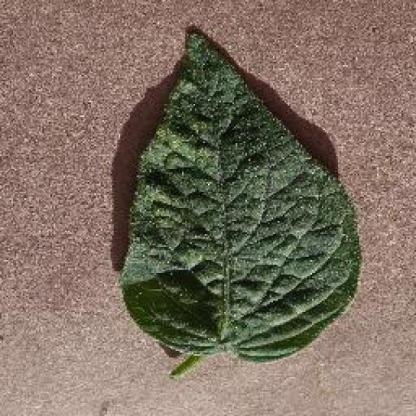Tomato_Spider_Mites: (115, 30, 360, 357)
